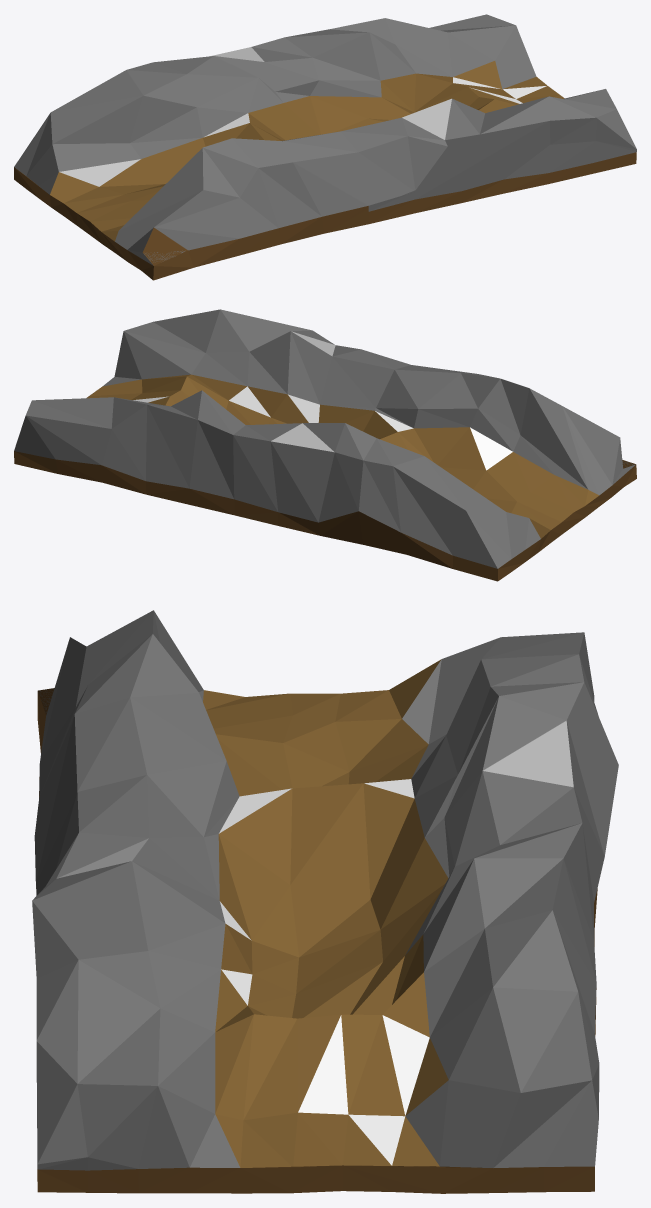
File: PlaneSpring3.fbx
3 views of the same model, one above another, from view 1: azimuth 30°, elevation 25°; view 2: azimuth 150°, elevation 25°; view 3: azimuth 270°, elevation 25° (orthographic). The views are drawn at different scales.
Parts seen in each view (by area): view 1: PlaneSpring3.Cliffs, PlaneSpring3.SpringRoad, PlaneSpring3.Floor, PlaneSpring3.SnowCliffs, PlaneSpring3.Snow; view 2: PlaneSpring3.Cliffs, PlaneSpring3.SpringRoad, PlaneSpring3.Floor, PlaneSpring3.Snow, PlaneSpring3.SnowCliffs; view 3: PlaneSpring3.Cliffs, PlaneSpring3.SpringRoad, PlaneSpring3.Floor, PlaneSpring3.Snow, PlaneSpring3.SnowCliffs.
Boxes of the visible parts, x1=… form: PlaneSpring3.Cliffs: x1=14, y1=14, x2=636, y2=265; PlaneSpring3.SpringRoad: x1=50, y1=61, x2=564, y2=241; PlaneSpring3.Floor: x1=14, y1=152, x2=636, y2=280; PlaneSpring3.SnowCliffs: x1=59, y1=47, x2=451, y2=186; PlaneSpring3.Snow: x1=204, y1=77, x2=547, y2=137; PlaneSpring3.Cliffs: x1=14, y1=309, x2=635, y2=568; PlaneSpring3.SpringRoad: x1=87, y1=374, x2=598, y2=538; PlaneSpring3.Floor: x1=14, y1=390, x2=636, y2=581; PlaneSpring3.Snow: x1=133, y1=386, x2=512, y2=470; PlaneSpring3.SnowCliffs: x1=271, y1=331, x2=335, y2=452; PlaneSpring3.Cliffs: x1=32, y1=610, x2=618, y2=1170; PlaneSpring3.SpringRoad: x1=203, y1=659, x2=448, y2=1167; PlaneSpring3.Floor: x1=37, y1=688, x2=597, y2=1193; PlaneSpring3.Snow: x1=219, y1=779, x2=429, y2=1165; PlaneSpring3.SnowCliffs: x1=57, y1=659, x2=573, y2=878.
Bounding box in the file's own units: 40515 × 7838 × 21057.
